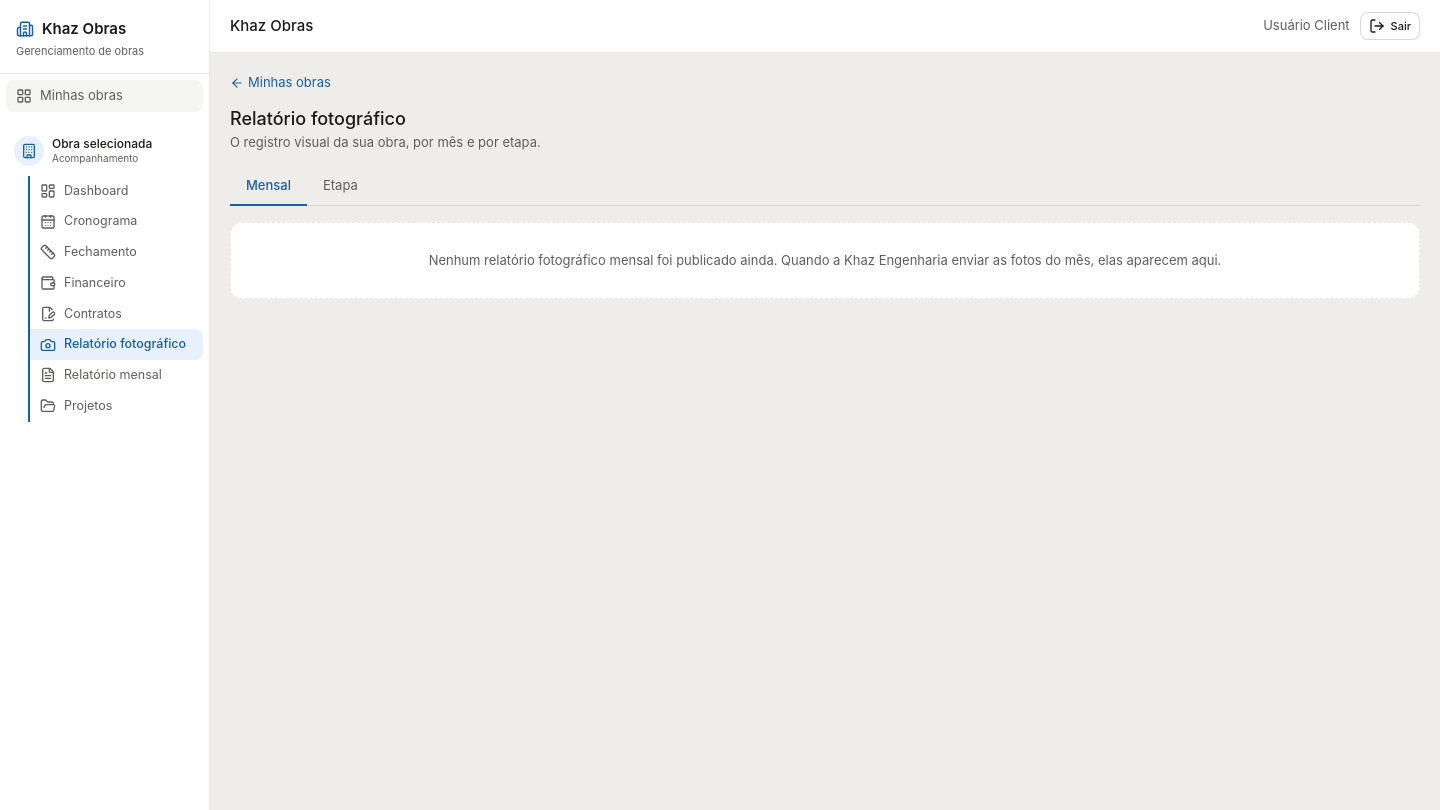
Test: Relatório fotográfico (cliente) › mostra a aba Etapa com o nome vindo de etapas
Click the tab "Etapa" at [340, 187], box x1=307 y1=168 x2=374 y2=206
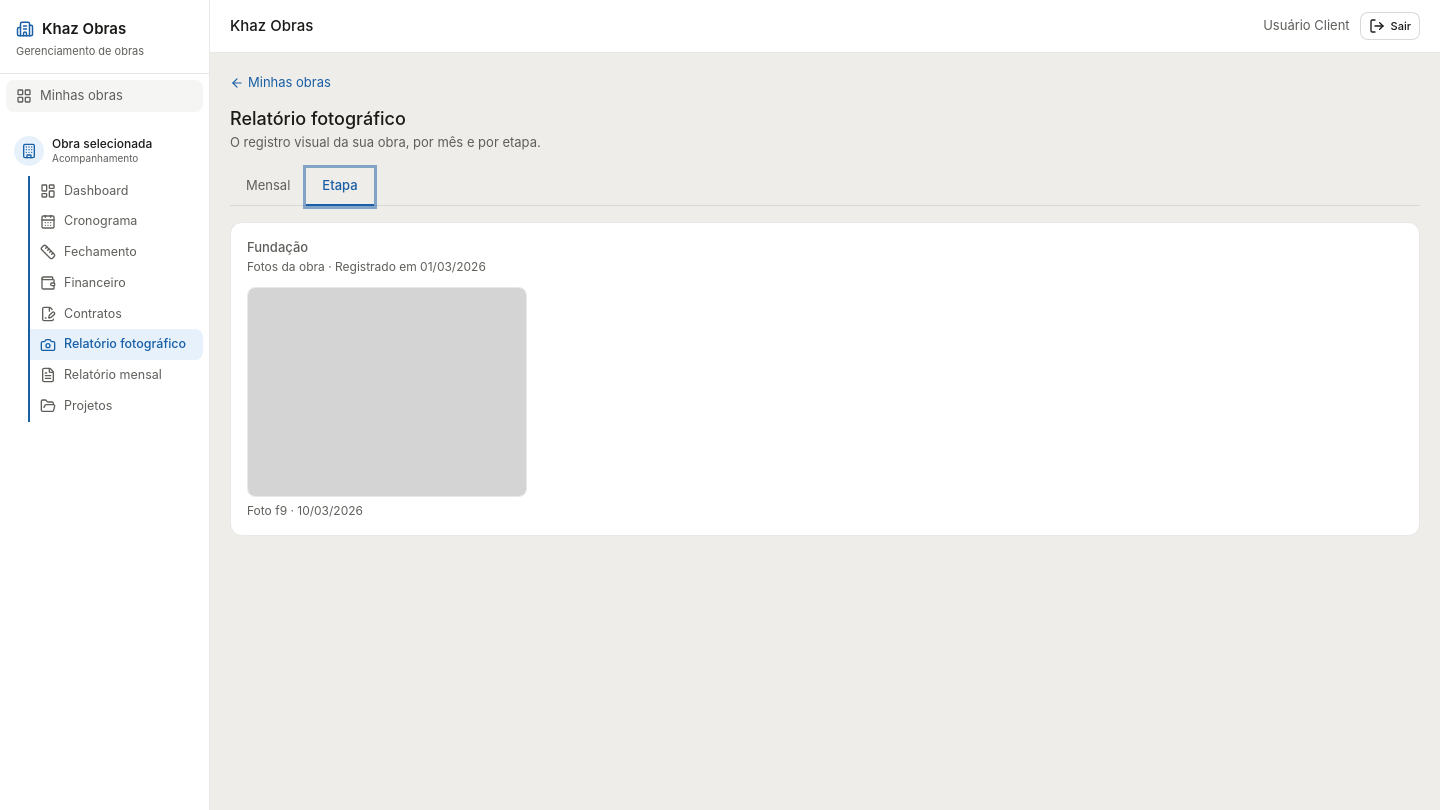
Now the heading "Fundação" is shown, box x1=247 y1=238 x2=308 y2=255
